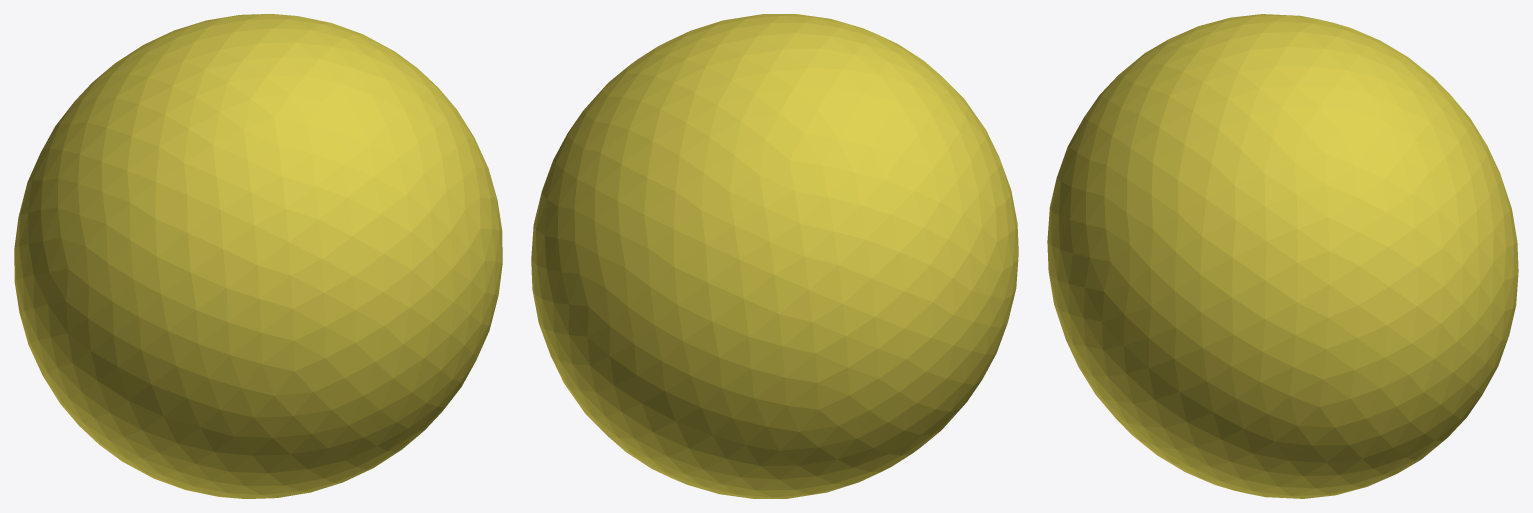
Rendered from sun.glb.
The picture shows the model from 3 angles, left to right: view 1: azimuth 30°, elevation 25°; view 2: azimuth 150°, elevation 25°; view 3: azimuth 270°, elevation 25°; orthographic projection. The views are drawn at different scales.
Visible parts, largest first — view 1: Mesh_Mesh_head_geo.001_lambert2SG.001; view 2: Mesh_Mesh_head_geo.001_lambert2SG.001; view 3: Mesh_Mesh_head_geo.001_lambert2SG.001.
Boxes of the visible parts, x1=… form: Mesh_Mesh_head_geo.001_lambert2SG.001: x1=14, y1=14, x2=502, y2=498; Mesh_Mesh_head_geo.001_lambert2SG.001: x1=531, y1=14, x2=1018, y2=498; Mesh_Mesh_head_geo.001_lambert2SG.001: x1=1047, y1=14, x2=1518, y2=498.
Bounding box in the file's own units: 49.04 × 48.58 × 47.54.
